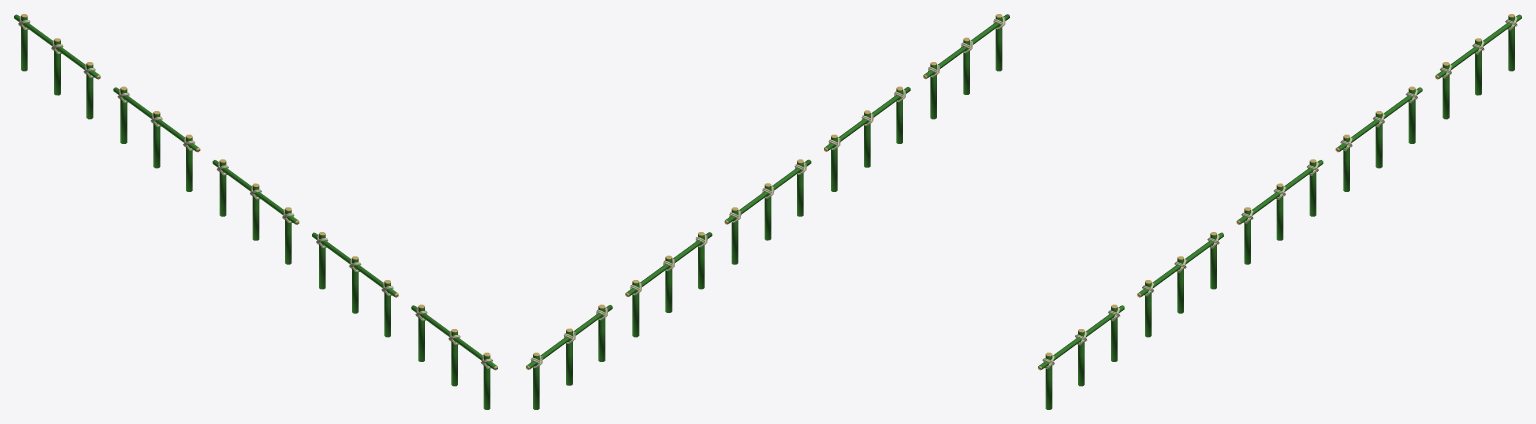
Rendered from PembatasJalanArray.fbx.
3 views of the same model, side by side, from view 1: azimuth 30°, elevation 25°; view 2: azimuth 150°, elevation 25°; view 3: azimuth 330°, elevation 25° (orthographic).
Visible parts, largest first — view 1: PembatasJalan.001; view 2: PembatasJalan.001; view 3: PembatasJalan.001.
Boxes of the visible parts, left/top/right/bottom form: PembatasJalan.001: left=14, top=14, right=497, bottom=409; PembatasJalan.001: left=526, top=14, right=1009, bottom=409; PembatasJalan.001: left=1038, top=14, right=1521, bottom=409.
Bounding box in the file's own units: 77.49 × 5803 × 365.
